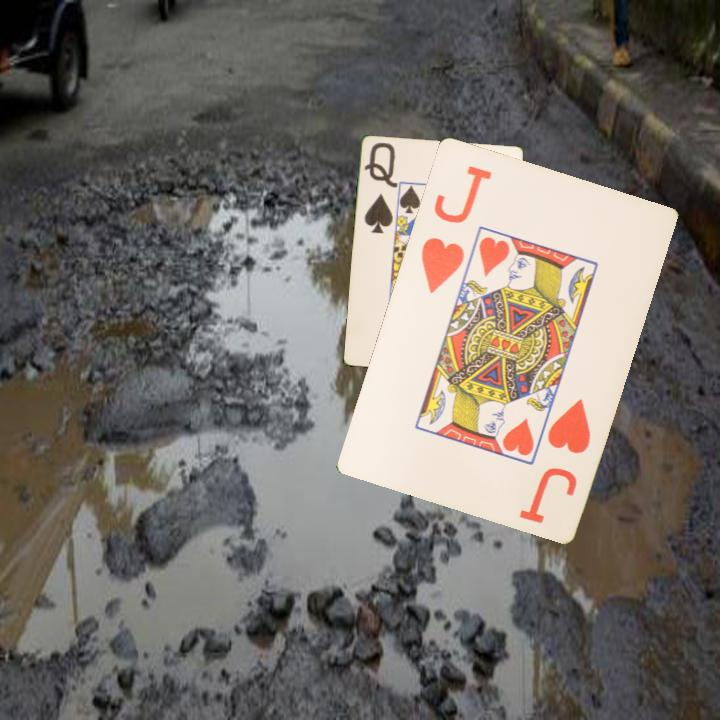Jh: (417, 161, 494, 296), (543, 394, 594, 456)
Qs: (361, 139, 399, 237)
